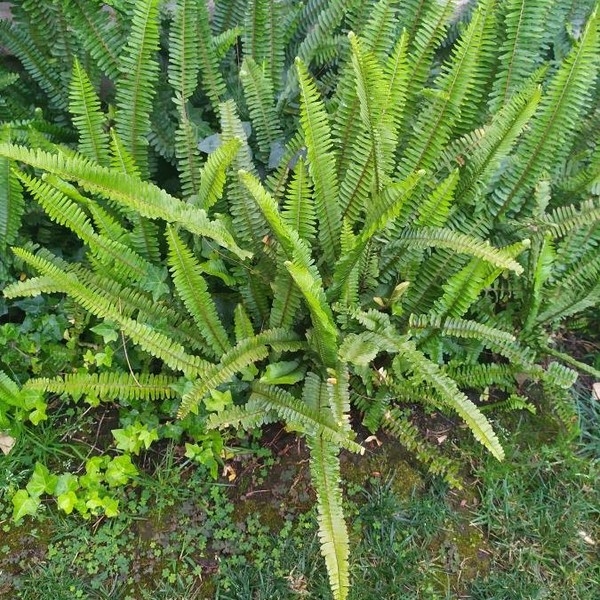obstacle: (52, 66, 517, 506)
